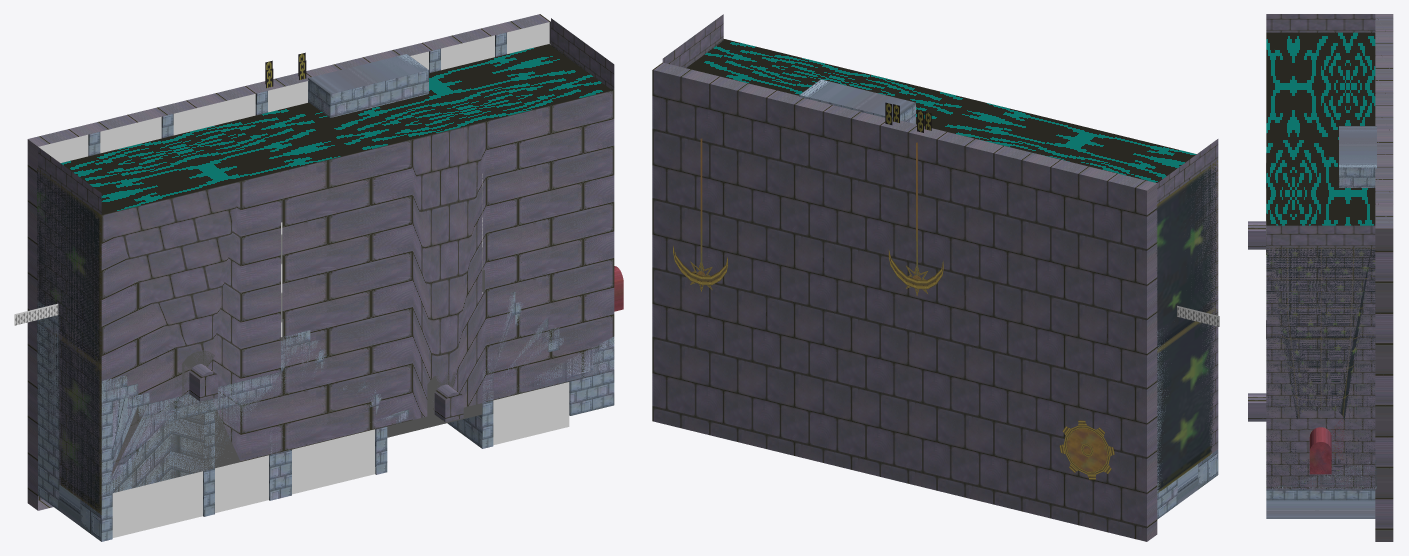
File: las_20_bake_split.dae
3 renders of one model, left to right at view 1: azimuth 30°, elevation 25°; view 2: azimuth 150°, elevation 25°; view 3: azimuth 270°, elevation 25°, orthographic. The views are drawn at different scales.
Visible parts, largest first — view 1: polySurface366_q00004_part2, polySurface1_q00002, polySurface1_q00081, polySurface1_q00003, polySurface109_q00080, polySurface100_q00079_part1, polySurface100_q00023_part2, polySurface110_q00078, polySurface104_q00076, polySurface366_q00004_part0, polySurface99_q00085_part0, polySurface99_q00084_part1 (+9 smaller); view 2: polySurface109_q00080, polySurface1_q00003, polySurface1_q00002, polySurface1_q00081, polySurface99_q00085_part0, polySurface376, S_hgm_16b_part0, polySurface100_q00079_part1, polySurface97_q00082_part1, S_hgm_16b_part1, S_hgm_22b_part1, S_hgm_21b_part1 (+1 smaller); view 3: polySurface376, polySurface1_q00002, polySurface1_q00021, polySurface109_q00080, polySurface99_q00084_part1, polySurface1_q00081, polySurface99_q00085_part0, polySurface99_q00026, polySurface366_q00004_part2, S_r_bero_02_part1, polySurface99_q00027_part1.
Part boxes in pixels (x1,y1,x2,y2): polySurface366_q00004_part2: (101,90,614,494); polySurface1_q00002: (61,44,611,214); polySurface1_q00081: (38,147,101,513); polySurface1_q00003: (37,168,101,514); polySurface109_q00080: (27,14,550,510); polySurface100_q00079_part1: (59,369,291,541); polySurface100_q00023_part2: (101,369,291,495); polySurface110_q00078: (38,22,549,162); polySurface104_q00076: (112,455,268,537); polySurface366_q00004_part0: (106,395,240,494); polySurface99_q00085_part0: (308,54,428,117); polySurface99_q00084_part1: (447,292,614,448); polySurface109_q00080: (652,62,1157,541); polySurface1_q00003: (1156,160,1218,492); polySurface1_q00002: (686,39,1196,182); polySurface1_q00081: (1157,139,1218,454); polySurface99_q00085_part0: (799,79,915,124); polySurface376: (662,14,723,67); S_hgm_16b_part0: (1067,428,1107,471); polySurface100_q00079_part1: (1177,449,1218,504); polySurface97_q00082_part1: (1156,328,1177,519); S_hgm_16b_part1: (1059,420,1114,479); S_hgm_22b_part1: (888,249,943,296); S_hgm_21b_part1: (673,245,728,292); polySurface376: (1266,225,1375,489); polySurface1_q00002: (1266,32,1375,225); polySurface1_q00021: (1266,247,1375,489); polySurface109_q00080: (1375,14,1393,541); polySurface99_q00084_part1: (1266,489,1375,518); polySurface1_q00081: (1266,14,1375,32); polySurface99_q00085_part0: (1339,126,1376,187); polySurface99_q00026: (1339,126,1376,187); polySurface366_q00004_part2: (1248,221,1266,421); S_r_bero_02_part1: (1309,427,1331,474); polySurface99_q00027_part1: (1272,460,1376,489).
Size of what is drawn, in the model's own units: 162 by 101 by 40.4.
